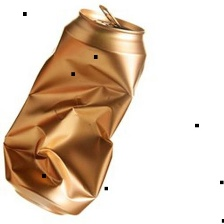can: (1, 3, 159, 215)
